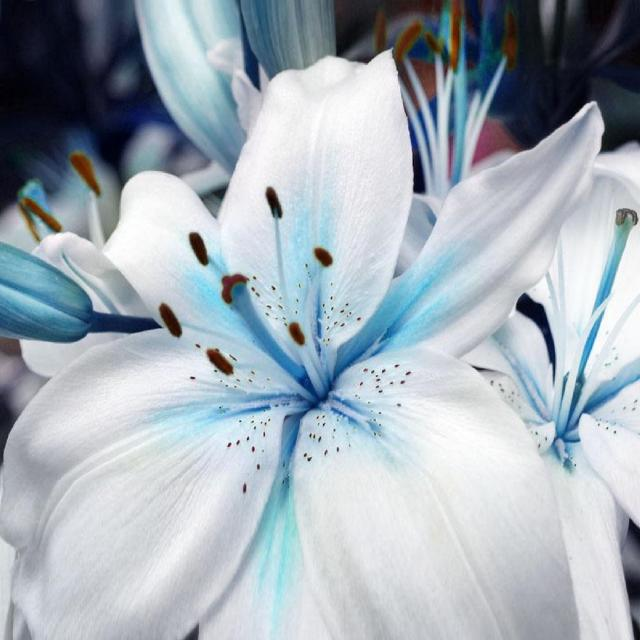lily: (0, 41, 640, 640)
